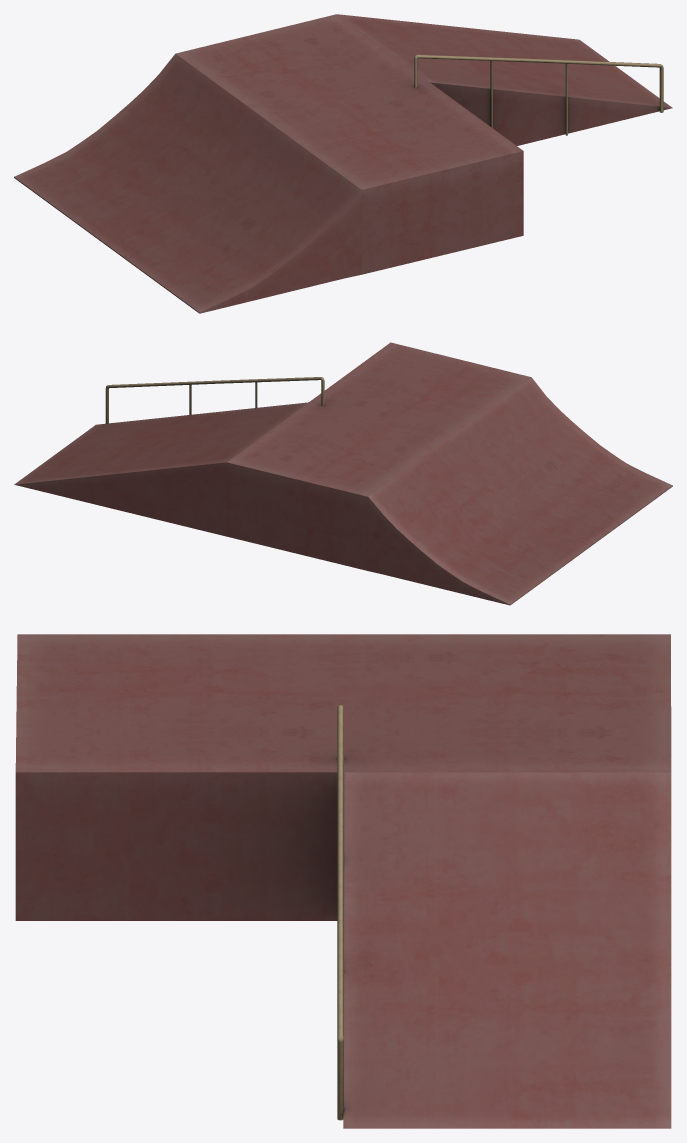
The model's file is Ramp10.fbx.
3 views of the same model, one above another, from view 1: azimuth 30°, elevation 25°; view 2: azimuth 150°, elevation 25°; view 3: azimuth 270°, elevation 25° (orthographic). The views are drawn at different scales.
Visible parts, largest first — view 1: Ramp10; view 2: Ramp10; view 3: Ramp10.
Boxes of the visible parts, x1,y1,x2,y2 form: Ramp10: (14, 14, 672, 313); Ramp10: (14, 342, 672, 605); Ramp10: (15, 634, 671, 1128).
Size of the model in its own units: 7 by 1.38 by 4.
